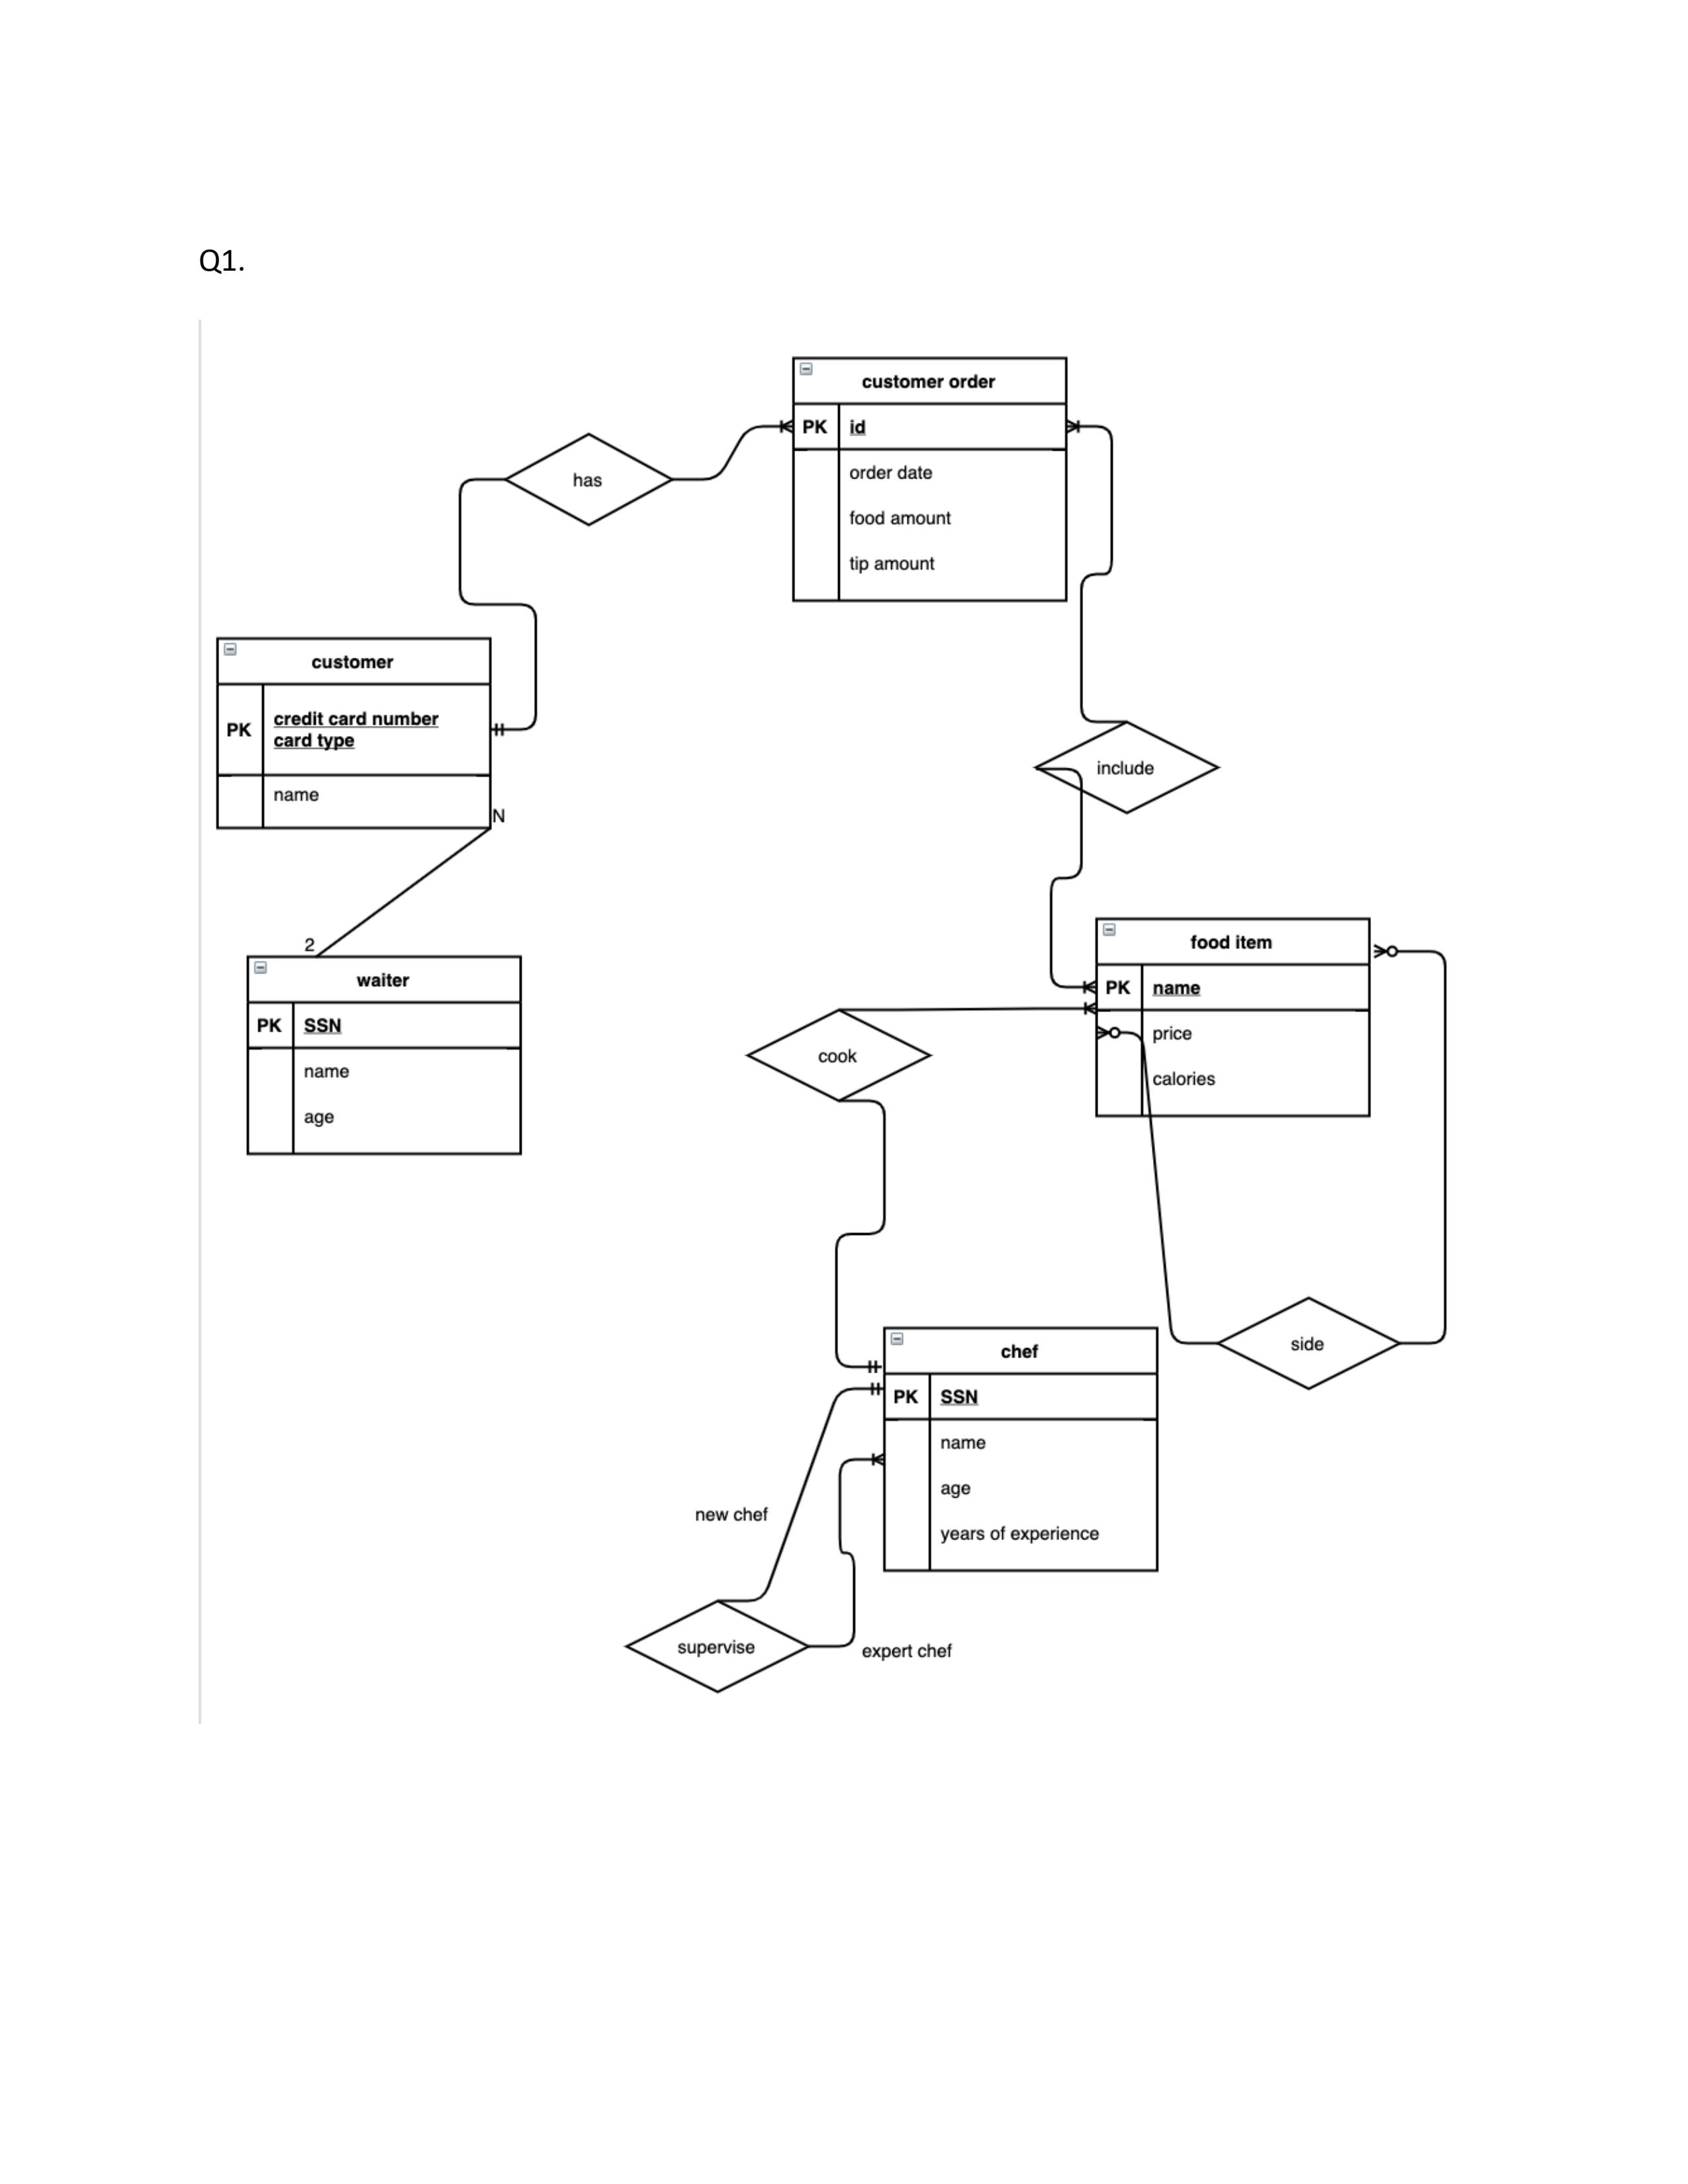Entity: (858, 1317, 1177, 1588), (778, 342, 1083, 615), (1069, 904, 1394, 1135), (220, 941, 541, 1172), (199, 624, 516, 844)
Relationship: (1215, 1289, 1408, 1408), (622, 1588, 812, 1705), (1039, 707, 1220, 826), (734, 1002, 942, 1104), (498, 424, 679, 532)
